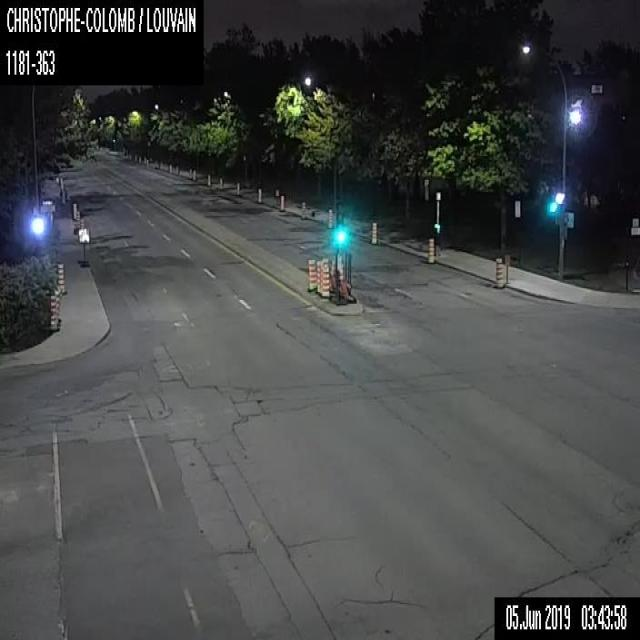construction: (78, 227, 89, 267), (48, 293, 59, 331), (318, 256, 327, 294), (492, 256, 503, 287), (306, 258, 316, 290), (56, 263, 66, 293), (321, 262, 329, 296), (314, 259, 321, 293), (426, 236, 434, 264), (54, 290, 60, 326), (370, 220, 377, 243), (504, 252, 509, 282), (326, 207, 333, 228), (56, 288, 60, 321), (300, 200, 306, 219), (278, 193, 284, 211), (256, 186, 262, 202), (76, 210, 80, 227), (72, 202, 76, 218), (206, 173, 210, 185), (188, 168, 192, 178), (236, 182, 239, 195), (80, 218, 84, 227), (219, 178, 222, 188), (192, 170, 195, 180)
